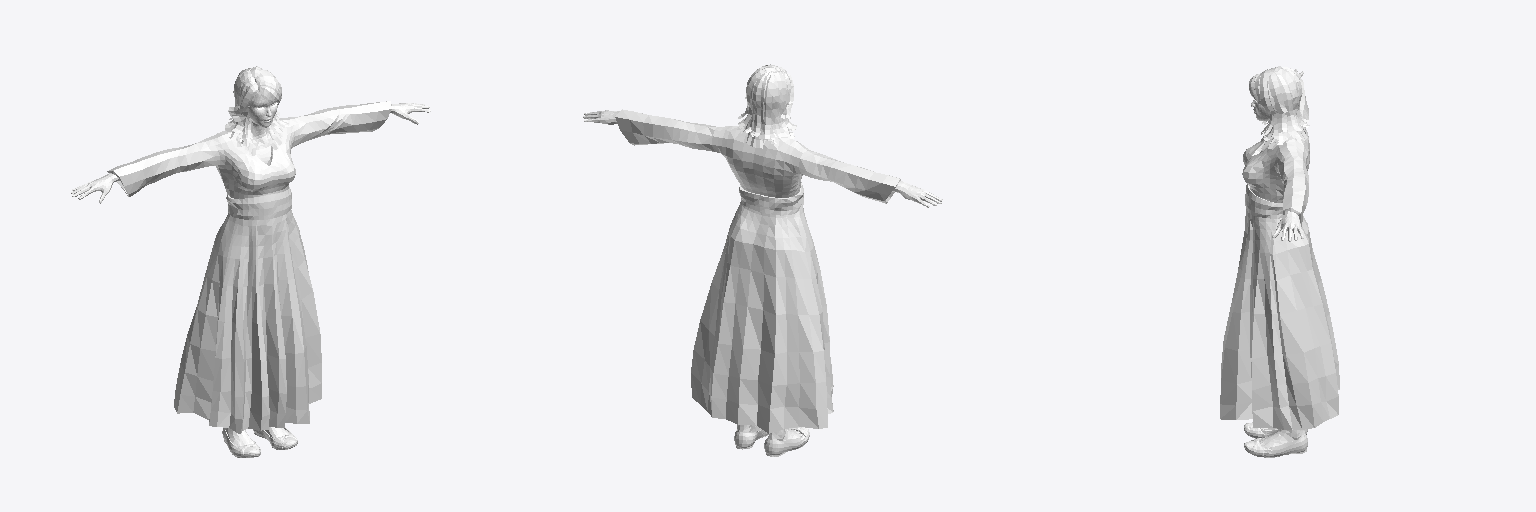
Rendered from girl5dress.obj.
3 renders of one model, left to right at view 1: azimuth 30°, elevation 25°; view 2: azimuth 150°, elevation 25°; view 3: azimuth 270°, elevation 25°, orthographic.
Visible parts, largest first — view 1: Tops, Hair, Body, Shoes; view 2: Tops, Hair, Body, Shoes; view 3: Tops, Hair, Body, Shoes.
Part boxes in pixels (bbox=[...]): Tops: bbox=[107, 101, 391, 433]; Hair: bbox=[225, 66, 288, 155]; Body: bbox=[71, 93, 430, 446]; Shoes: bbox=[222, 427, 297, 457]; Tops: bbox=[615, 109, 900, 433]; Hair: bbox=[738, 64, 796, 148]; Body: bbox=[583, 110, 942, 440]; Shoes: bbox=[734, 427, 809, 456]; Tops: bbox=[1220, 77, 1339, 429]; Hair: bbox=[1249, 66, 1309, 150]; Body: bbox=[1251, 68, 1304, 447]; Shoes: bbox=[1244, 422, 1307, 457].
Size of the model in its own units: 179 by 180 by 52.26.